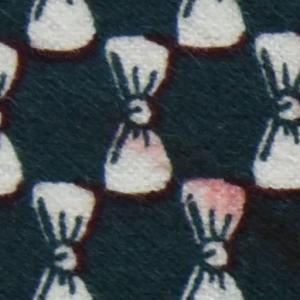Stain: (188, 172, 259, 224), (125, 137, 171, 162)
